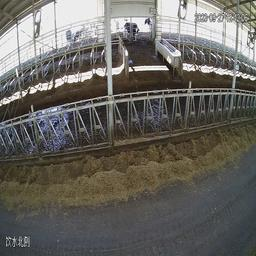cow: (124, 19, 140, 43)
